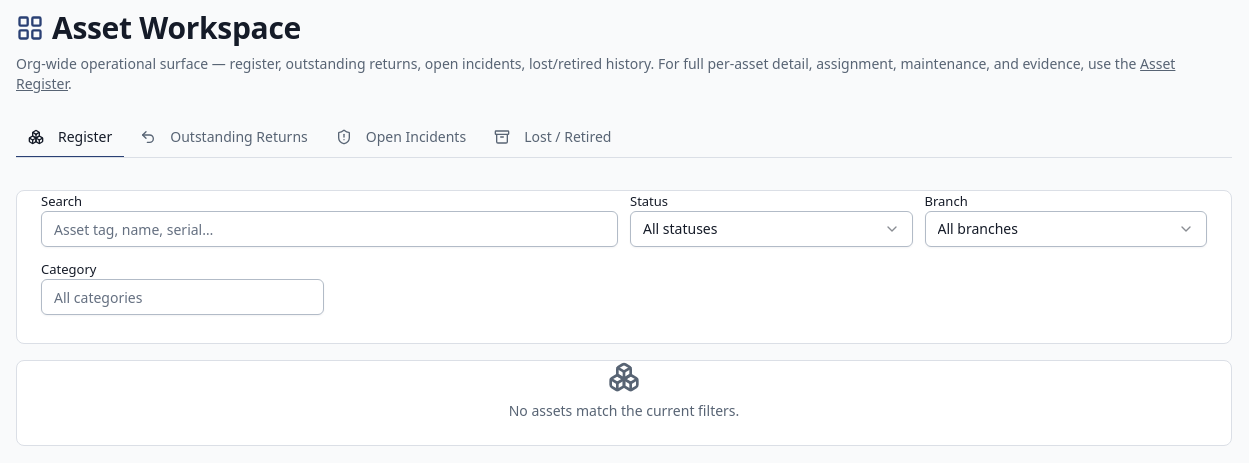
Test: Asset Workspace page › Open Incidents tab › shows only open incidents, never reviewed/dismissed ones
This screenshot has width=1249, height=463.
Click the tab with test id "tab-workspace-incidents" at (401, 138), box [324,118,478,158]
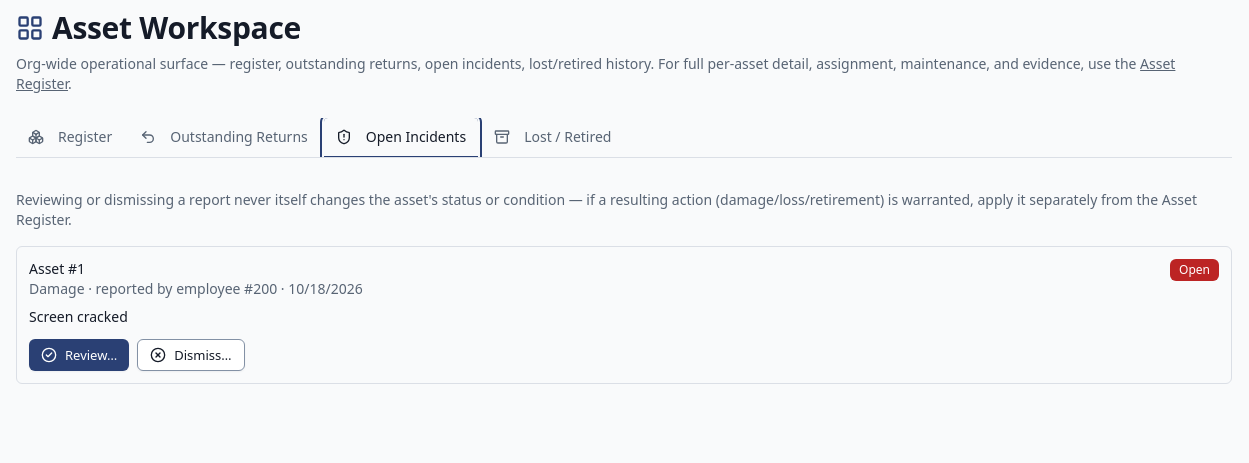
Expected: the element with test id "row-incident-workspace-1" is shown, [16,246,1232,384]
